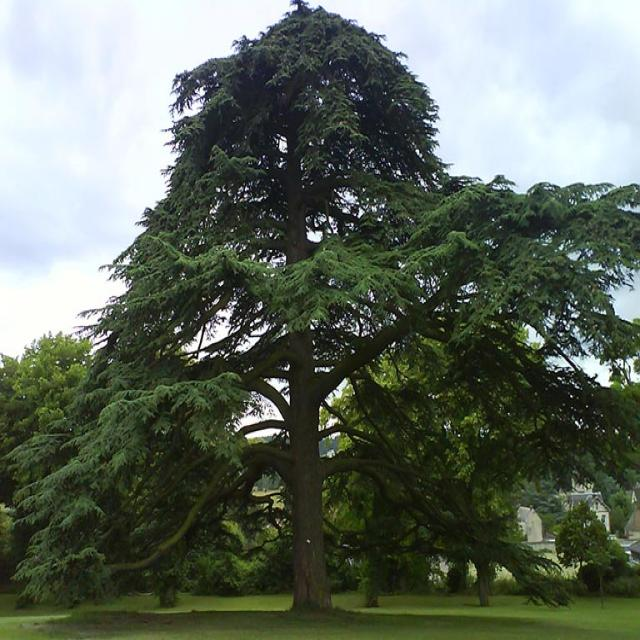cedro: (6, 1, 640, 624)
